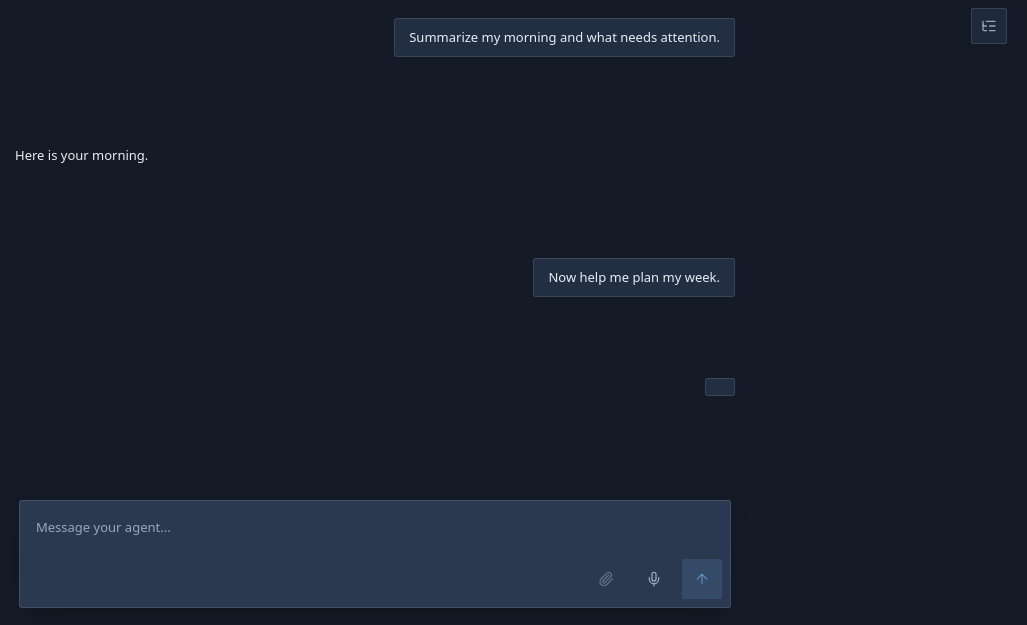
it: ChatView, conversation outline › opens a list of ONLY the user prompts (one row per user turn, in order)
What coordinates should you click on to do the following:
click the button with test id "outline-toggle"
I would click on:
 (989, 26)
Its box is [971, 8, 1007, 44].
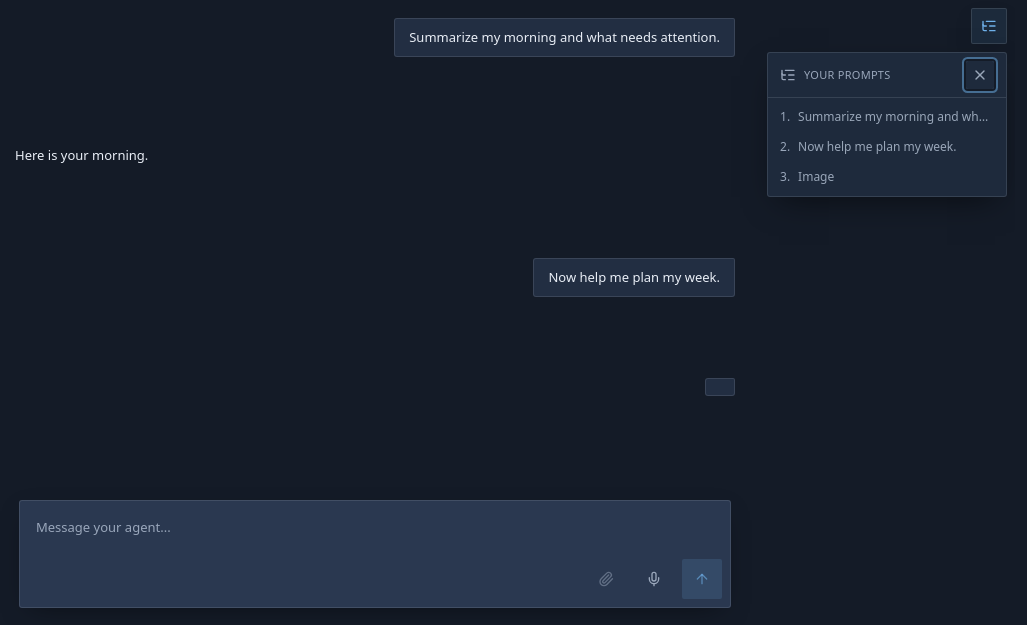
Check: the button "1. Summarize my morning and what needs attention." is shown, box [772, 102, 1002, 132]
Check: the button "2. Now help me plan my week." is shown, box [772, 132, 1002, 162]
Check: the button "3. Image" is shown, box [772, 162, 1002, 192]
